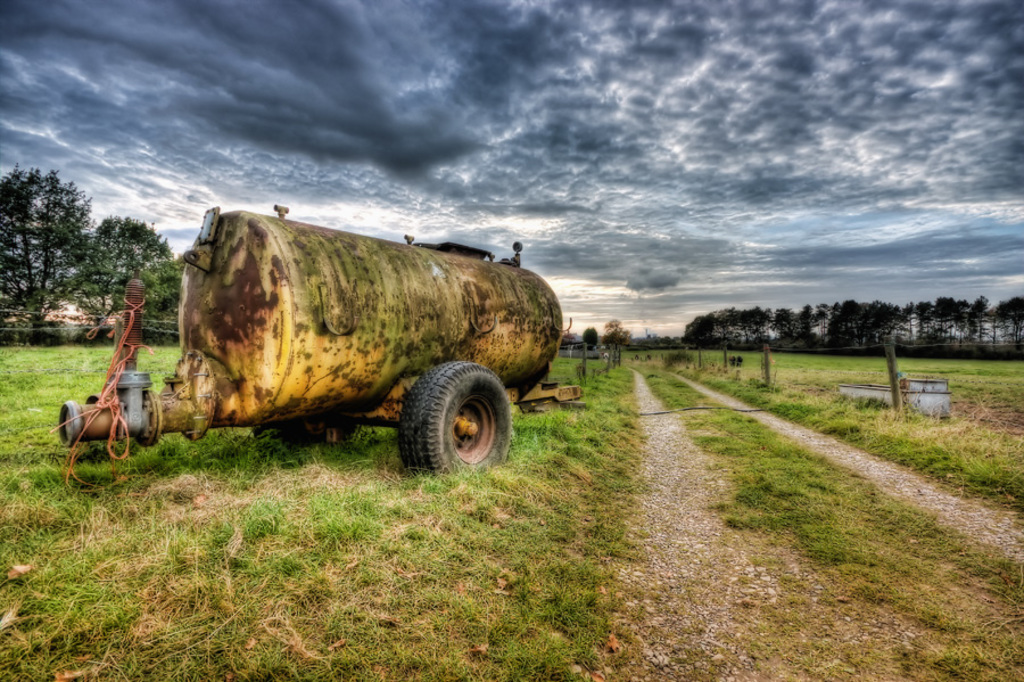Tree: (1, 146, 98, 326), (67, 212, 191, 322), (826, 298, 1022, 349), (678, 301, 819, 346), (601, 316, 634, 349), (816, 301, 832, 341), (643, 325, 672, 343), (579, 325, 597, 349), (563, 330, 575, 349)
